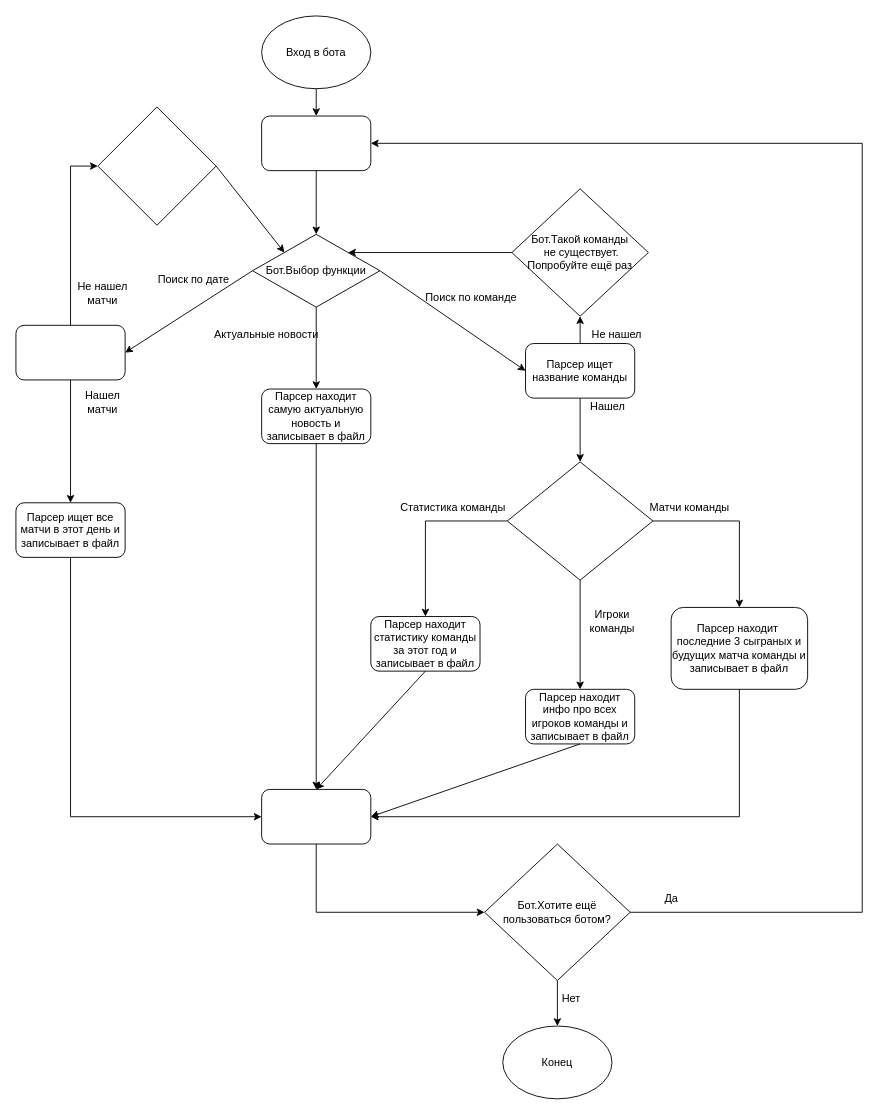
Image size: 885x1115. Some labels were removed from this diagram. The centre of each missing label's shape, as x and y in pixels:
Бот считывает информацию с файла и передает пользователю: [316,816]
Бот. В этот день нет матчей: [156,165]
Бот. Общее инфо о функциях: [316,143]
Бот.вибор функции поиска по команде: [579,520]
Парсер ищет матчи в эту дату: [70,352]
